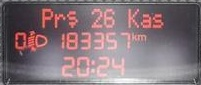0: (75, 55, 89, 76), (14, 31, 26, 49)
1: (60, 32, 64, 48)
2: (60, 55, 74, 77), (95, 55, 109, 76), (90, 7, 102, 28)
3: (92, 31, 104, 49), (79, 31, 91, 49)
4: (110, 55, 124, 75)
5: (104, 31, 116, 49)
6: (102, 7, 114, 28)
7: (119, 31, 130, 49)
8: (65, 31, 77, 49)
X: (126, 7, 139, 28), (40, 7, 52, 28), (65, 10, 77, 28), (139, 13, 151, 28), (151, 13, 163, 28), (53, 12, 64, 28), (89, 58, 95, 73), (137, 34, 146, 41), (131, 32, 136, 41)
